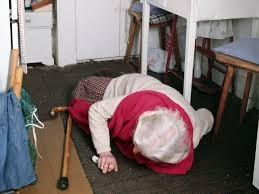fallen: (66, 69, 216, 173)
